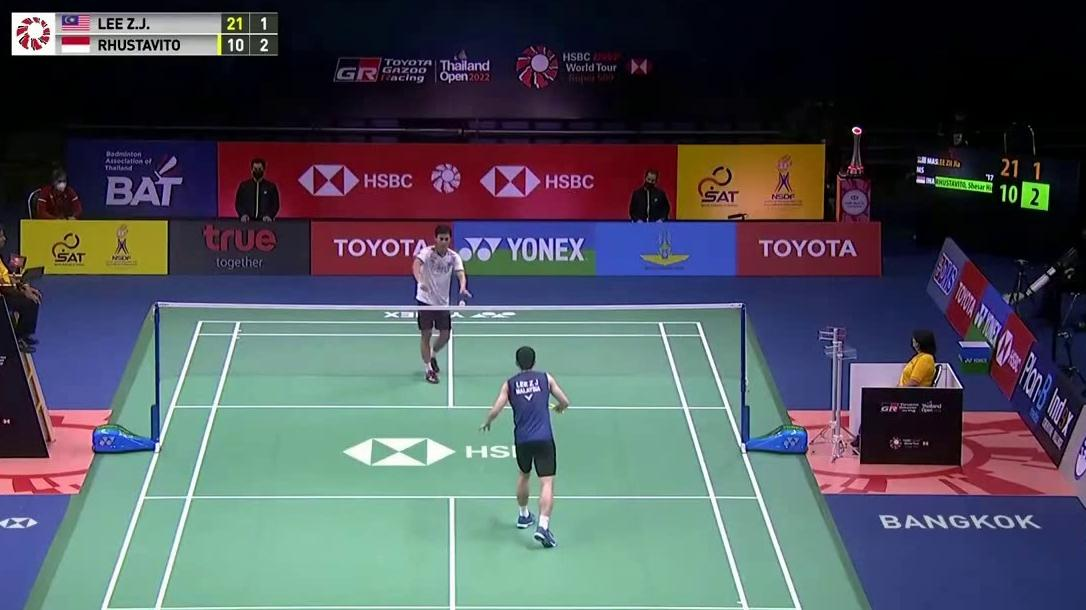racket: (418, 282, 463, 316)
shuttle: (459, 300, 465, 308)
